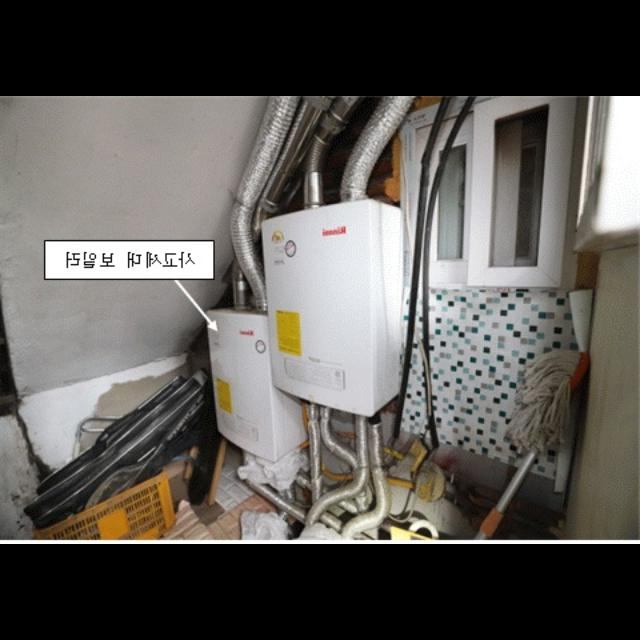Boiler: (274, 178, 420, 434), (194, 296, 306, 472)
